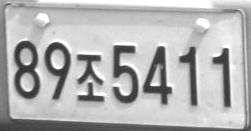1: (176, 46, 206, 106), (210, 47, 237, 107)
4: (142, 46, 172, 105)
5: (112, 44, 139, 103)
8: (13, 39, 41, 99)
9: (43, 41, 71, 99)
조: (75, 54, 105, 102)
